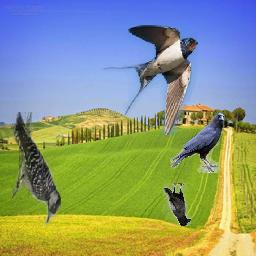Crow: (171, 113, 226, 174), (163, 184, 191, 227)
Swallow: (102, 25, 198, 135)
Woodpecker: (13, 112, 62, 228)
